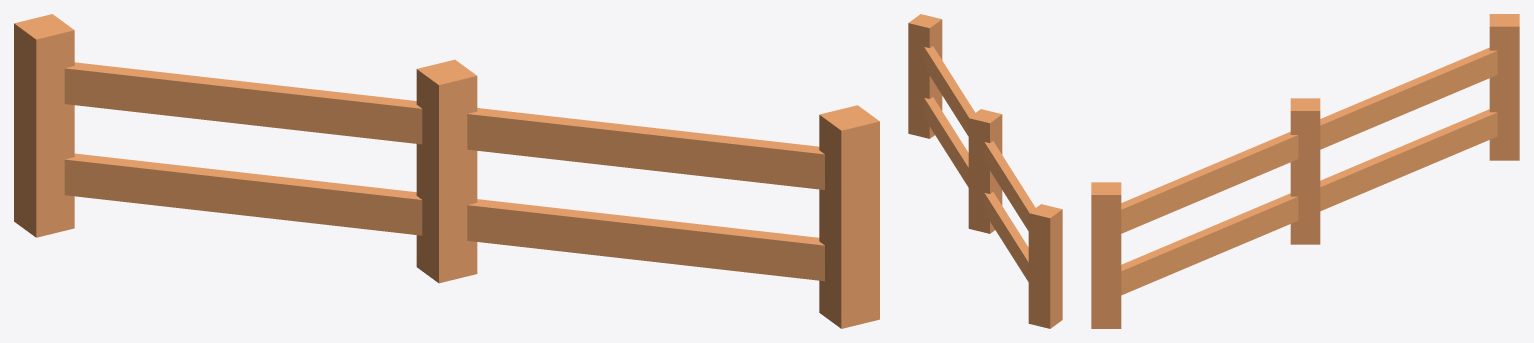
The model's file is fence_diagonalStrong.fbx.
3 views of the same model, side by side, from view 1: azimuth 30°, elevation 25°; view 2: azimuth 150°, elevation 25°; view 3: azimuth 270°, elevation 25° (orthographic). The views are drawn at different scales.
Parts seen in each view (by area): view 1: fence_diagonalStrong; view 2: fence_diagonalStrong; view 3: fence_diagonalStrong.
Boxes of the visible parts, <box> form: fence_diagonalStrong: <box>14,14,879,328</box>; fence_diagonalStrong: <box>908,14,1062,328</box>; fence_diagonalStrong: <box>1091,14,1519,328</box>.
Bounding box in the file's own units: 10 × 3.45 × 10.
